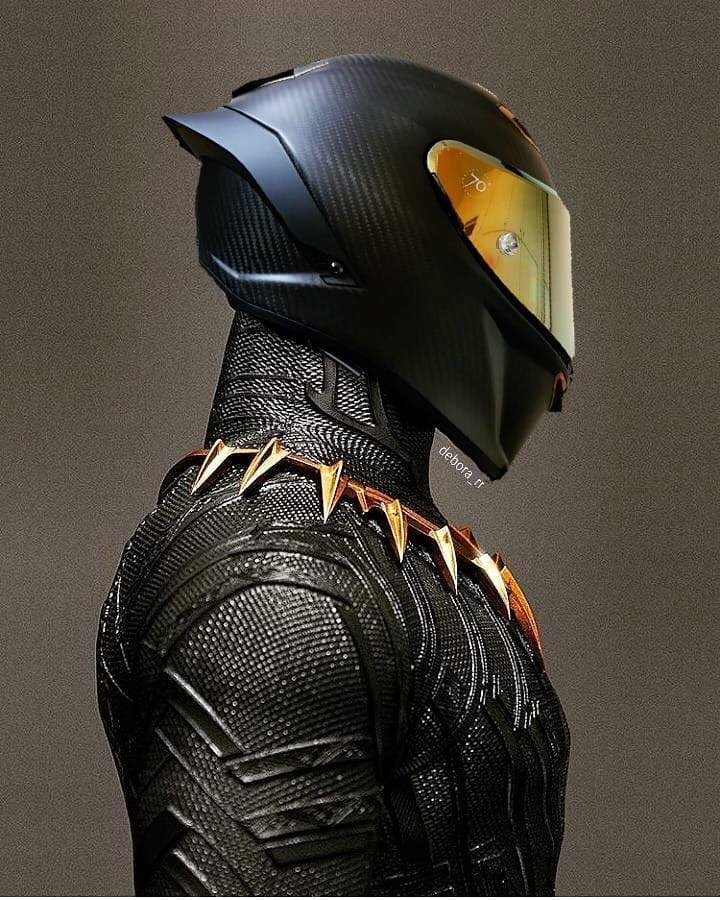Helmet: (151, 50, 600, 521)
